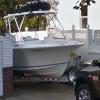Boat: (3, 6, 88, 79)
